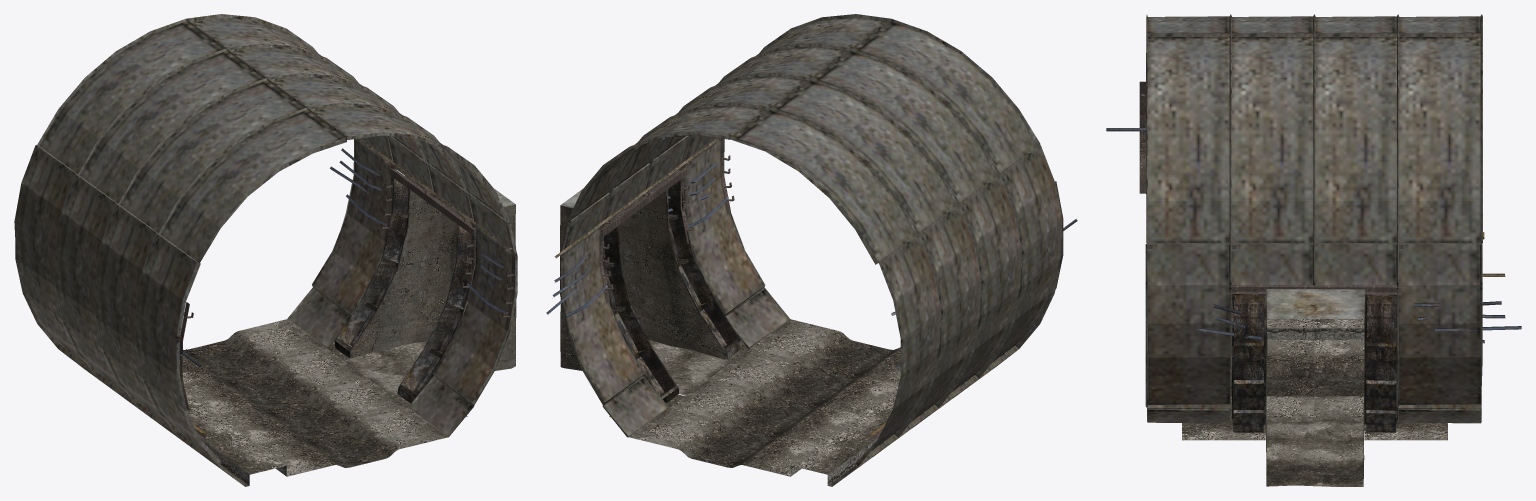
File: tunnel_beton_exit.obj
3 views of the same model, side by side, from view 1: azimuth 30°, elevation 25°; view 2: azimuth 150°, elevation 25°; view 3: azimuth 270°, elevation 25° (orthographic). The views are drawn at different scales.
Parts seen in each view (by area): view 1: concrete_tile_010, concrete_tile_07, concrete_tile_009, concrete_tile_008, level_278, floor_tunnel_pod003, floor_tunnel_pod002, level_277, floor_tunnel_pod001, floor_tunnel_pod, level_261, metal_corr_dsc003 (+3 smaller); view 2: concrete_tile_07, concrete_tile_010, concrete_tile_008, concrete_tile_009, level_278, floor_tunnel_pod, floor_tunnel_pod001, level_277, floor_tunnel_pod002, floor_tunnel_pod003, level_261, metal_trub_tonnel (+3 smaller); view 3: concrete_tile_010, concrete_tile_07, concrete_tile_008, concrete_tile_009, level_277, floor_tunnel_pod001, floor_tunnel_pod002, level_269, level_261, level_272, floor_tunnel_pod005, floor_tunnel_pod004 (+7 smaller).
Boxes of the visible parts, <box> form: concrete_tile_010: <box>135,102,517,486</box>; concrete_tile_07: <box>14,14,396,395</box>; concrete_tile_009: <box>95,73,475,455</box>; concrete_tile_008: <box>54,43,435,427</box>; level_278: <box>350,190,516,393</box>; floor_tunnel_pod003: <box>209,408,447,486</box>; floor_tunnel_pod002: <box>186,378,407,444</box>; level_277: <box>335,176,473,397</box>; floor_tunnel_pod001: <box>181,349,366,414</box>; floor_tunnel_pod: <box>179,319,326,383</box>; level_261: <box>344,345,417,395</box>; metal_corr_dsc003: <box>179,225,515,411</box>; concrete_tile_07: <box>560,102,941,486</box>; concrete_tile_010: <box>684,14,1062,395</box>; concrete_tile_008: <box>604,73,981,455</box>; concrete_tile_009: <box>644,43,1021,425</box>; level_278: <box>560,191,726,391</box>; floor_tunnel_pod: <box>629,408,867,486</box>; floor_tunnel_pod001: <box>670,378,891,444</box>; level_277: <box>602,180,741,398</box>; floor_tunnel_pod002: <box>710,348,898,414</box>; floor_tunnel_pod003: <box>750,319,900,384</box>; level_261: <box>659,346,732,395</box>; metal_trub_tonnel: <box>546,137,900,440</box>; concrete_tile_010: <box>1145,14,1231,423</box>; concrete_tile_07: <box>1396,14,1482,423</box>; concrete_tile_008: <box>1314,14,1399,285</box>; concrete_tile_009: <box>1230,14,1315,285</box>; level_277: <box>1231,294,1398,432</box>; floor_tunnel_pod001: <box>1314,319,1397,421</box>; floor_tunnel_pod002: <box>1230,319,1314,421</box>; level_269: <box>1266,450,1363,486</box>; level_261: <box>1266,421,1363,453</box>; level_272: <box>1266,289,1365,318</box>; floor_tunnel_pod005: <box>1364,421,1447,440</box>; floor_tunnel_pod004: <box>1182,421,1265,440</box>.
Size of the model in its own units: 10.38 by 8.25 by 9.04.
Materials: 11 (11 with a texture image).
